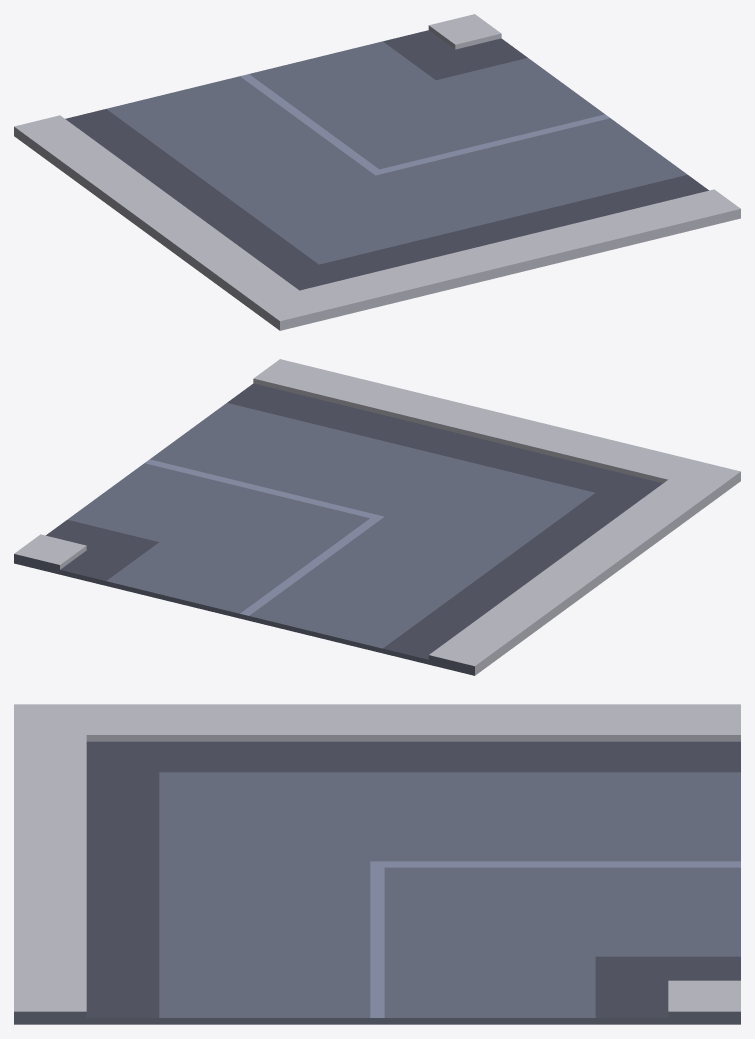
The model's file is Road Bend Square.glb.
The picture shows the model from 3 angles, top to bottom: view 1: azimuth 30°, elevation 25°; view 2: azimuth 150°, elevation 25°; view 3: azimuth 270°, elevation 25°; orthographic projection. The views are drawn at different scales.
Parts seen in each view (by area): view 1: road_bendSquare; view 2: road_bendSquare; view 3: road_bendSquare.
Boxes of the visible parts, x1,y1,x2,y2 form: road_bendSquare: (14, 14, 740, 330); road_bendSquare: (14, 359, 740, 675); road_bendSquare: (14, 704, 740, 1024).
Size of the model in its own units: 1 by 0.02 by 1.
